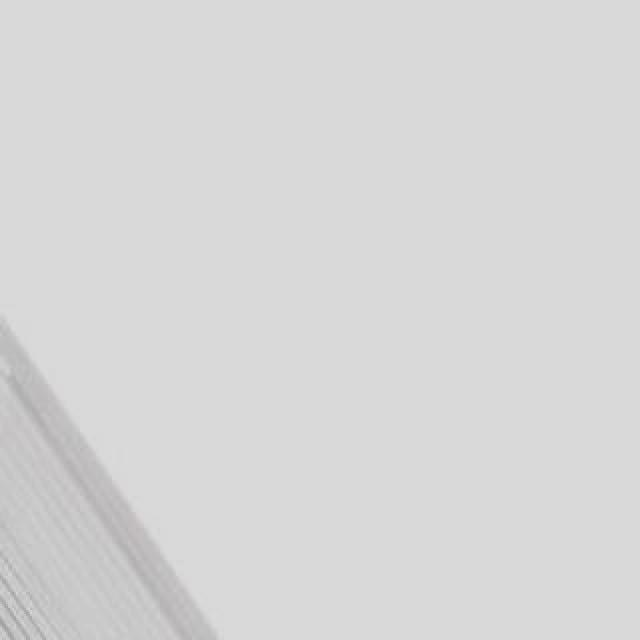fluorescent tube: (0, 108, 516, 640), (0, 388, 436, 640)
